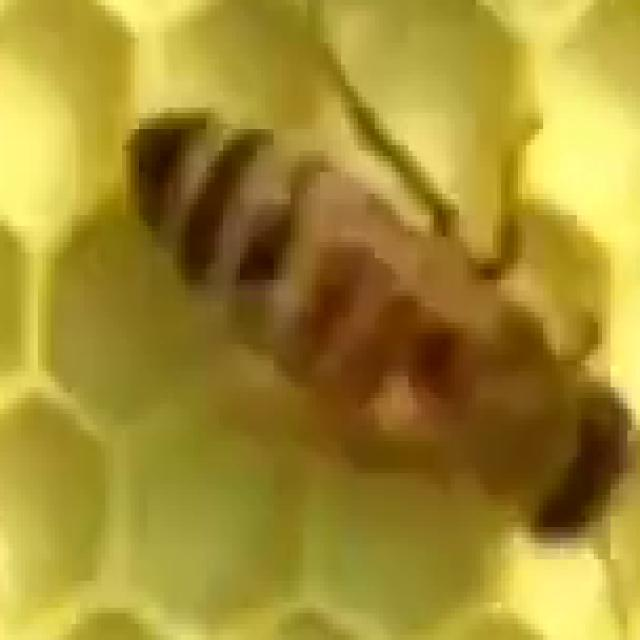honeybee: (86, 49, 640, 578)
